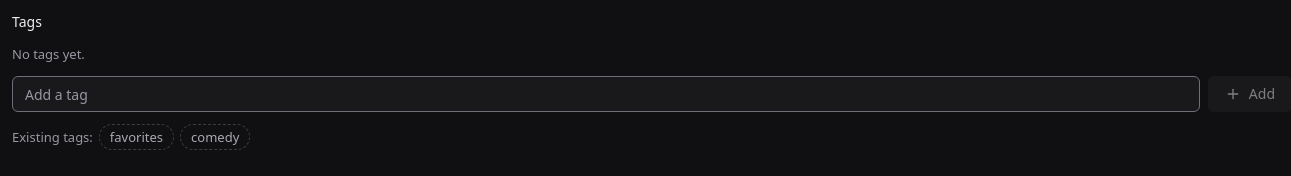
it: VideoTagsEditor › moves focus to the next suggestion after using one
Click the button with aria-label "Add tag favorites" at (136, 137), box x1=99 y1=124 x2=174 y2=150
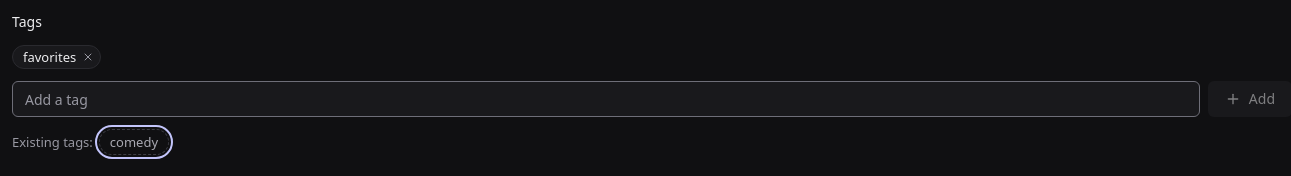
Check: the button named "Remove tag favorites" is shown, box x1=80 y1=49 x2=96 y2=65
